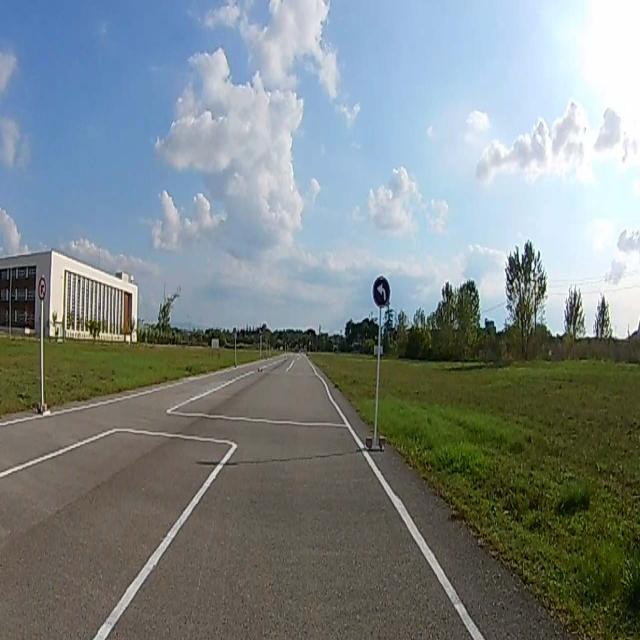sagadonulmez: (37, 276, 46, 299)
sol: (372, 276, 390, 308)
